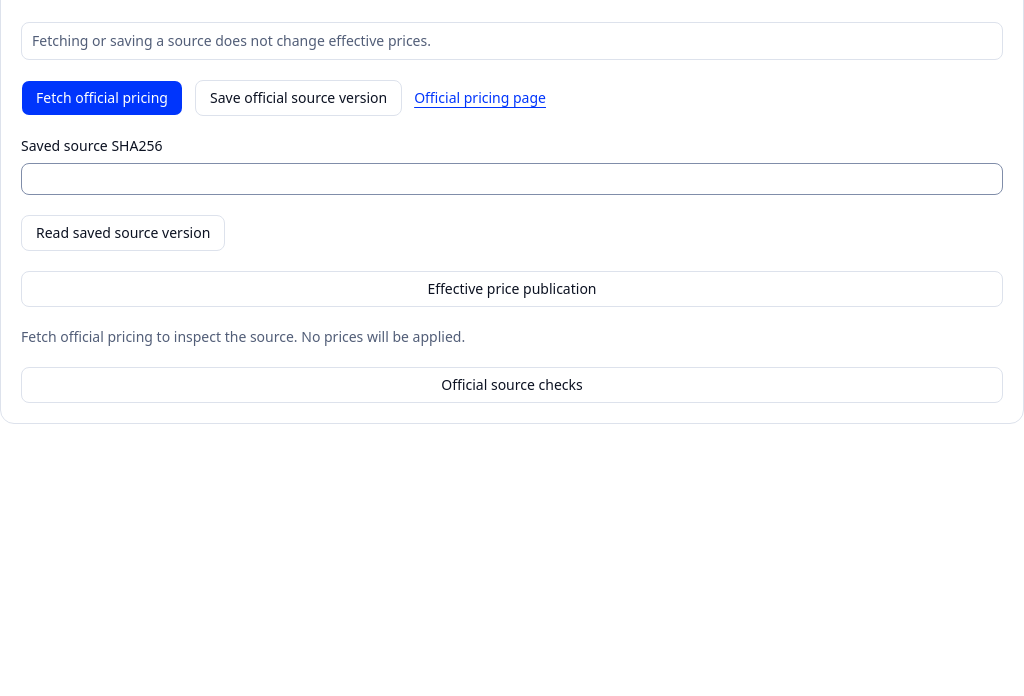
Test case: review saved source loads the exact frozen version through the existing publication entrypoint without writing
Click the button "Official source checks": (512, 385) [21, 367, 1003, 403]
(page scrolled)
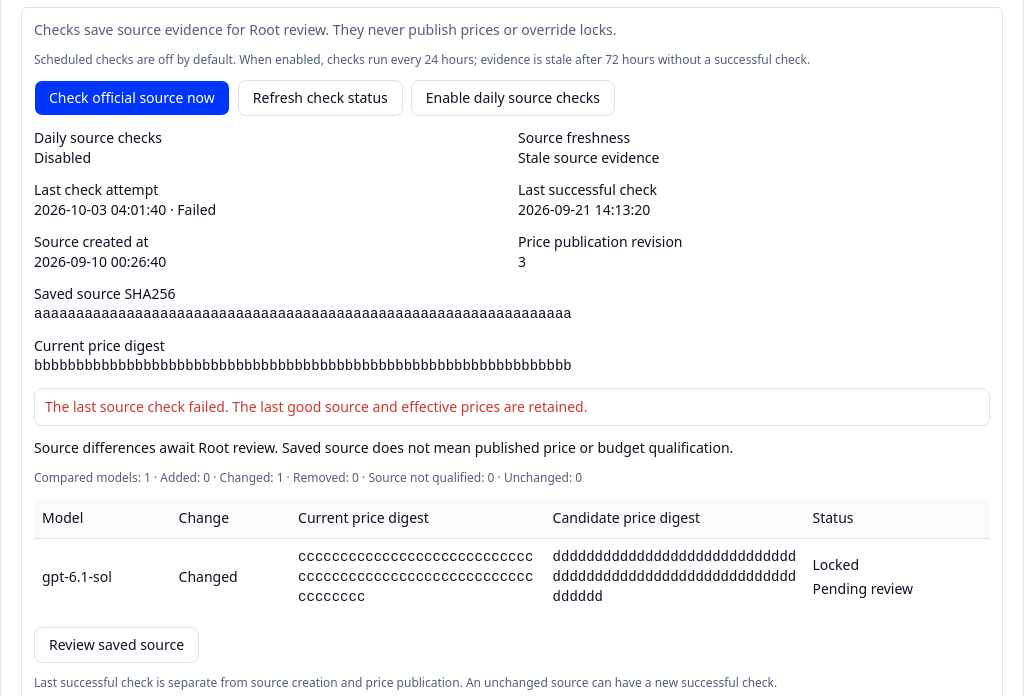
Click the button "Review saved source": (117, 645) [34, 627, 199, 663]
(page scrolled)
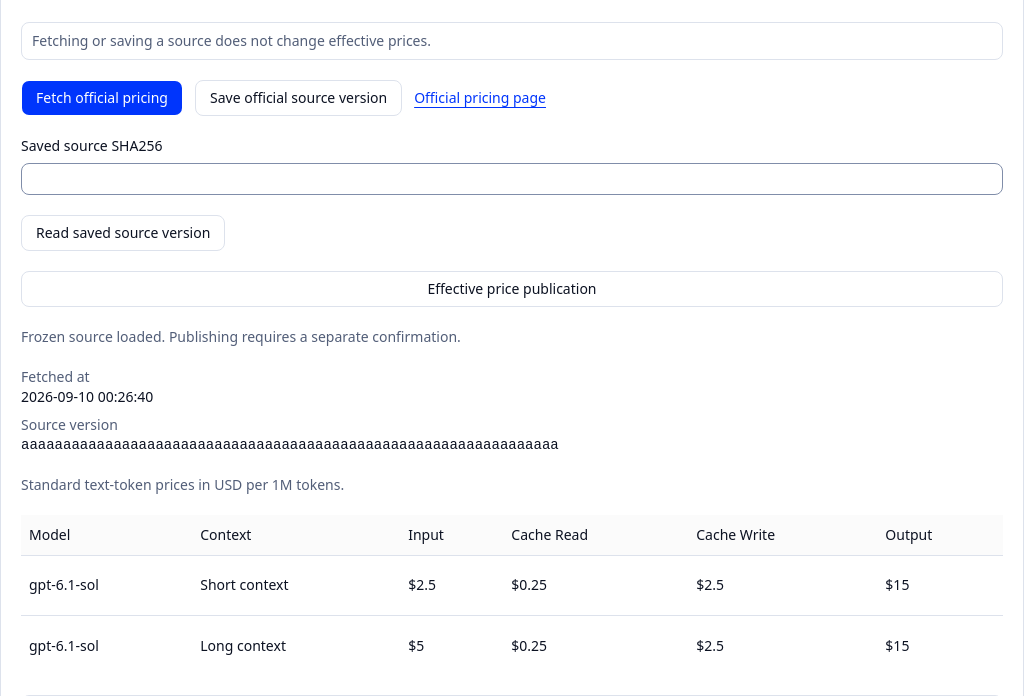
Now the text "$5" is shown, box [400, 615, 503, 675]
Now the text "Frozen source loaded. Publishing requires a separate confirmation." is shown, box [21, 327, 461, 346]
